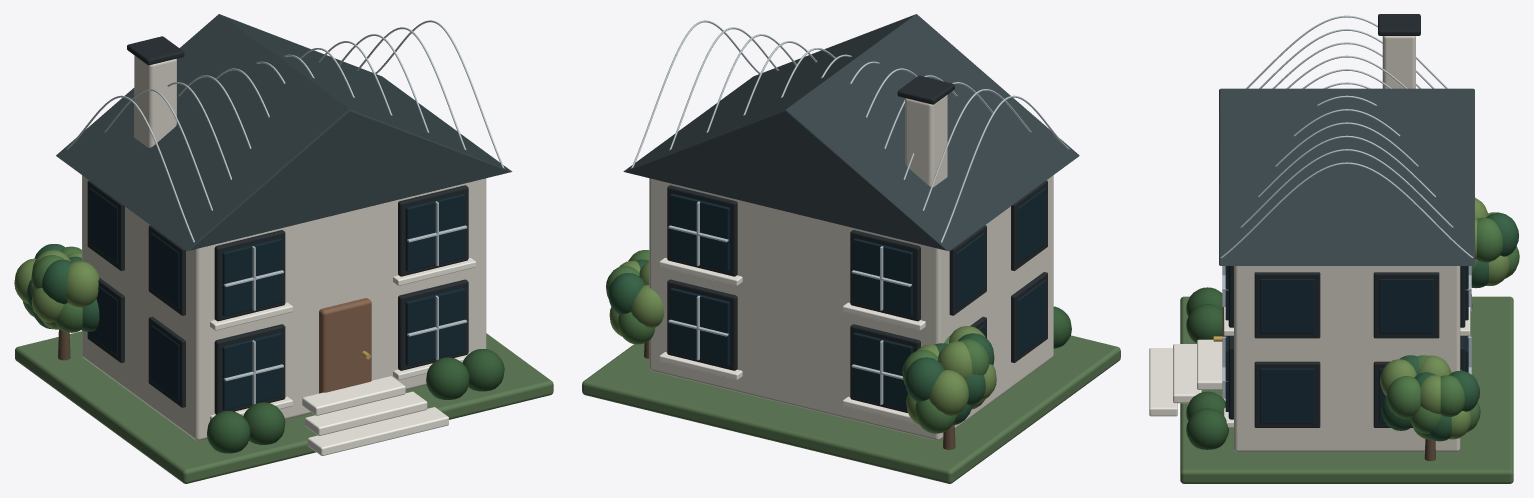
The model's file is house.glb.
3 renders of one model, left to right at view 1: azimuth 30°, elevation 25°; view 2: azimuth 150°, elevation 25°; view 3: azimuth 270°, elevation 25°, orthographic. The views are drawn at different scales.
Parts seen in each view (by area): view 1: InterestShield-house-authored-v1; view 2: InterestShield-house-authored-v1; view 3: InterestShield-house-authored-v1.
Part boxes in pixels (x1,y1,x2,y2): InterestShield-house-authored-v1: (14,14,553,483); InterestShield-house-authored-v1: (582,14,1120,483); InterestShield-house-authored-v1: (1149,14,1519,483).
Size of the model in its own units: 3.2 by 2.64 by 2.71.
